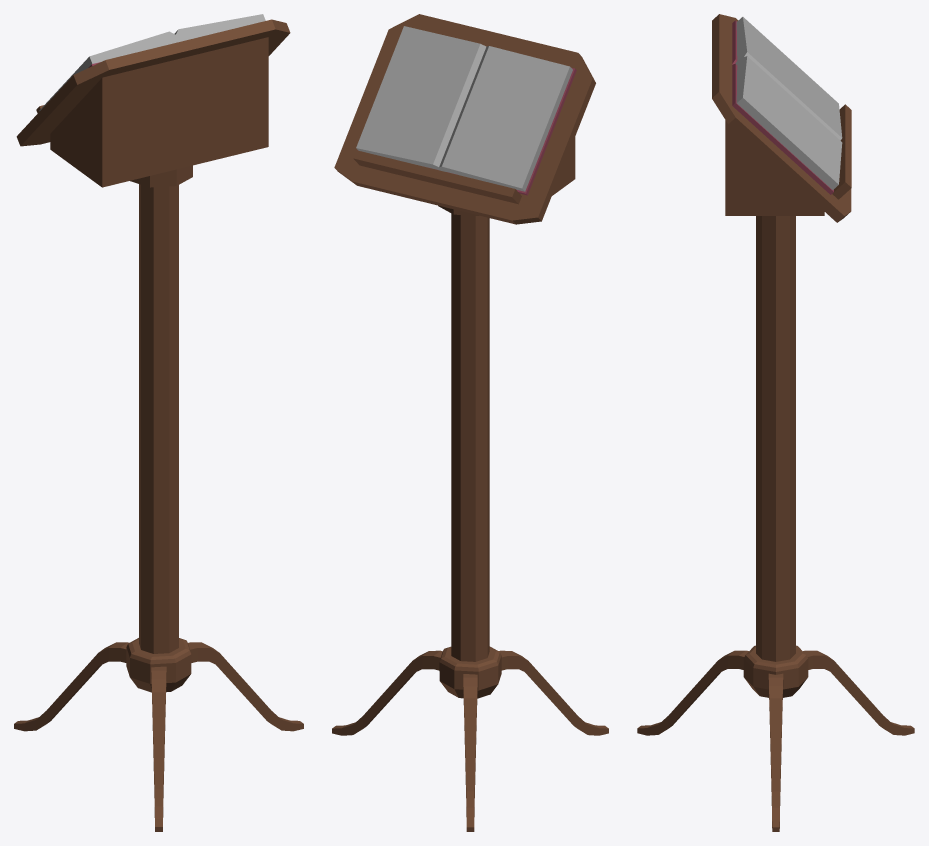
The model's file is Bookstand.fbx.
The picture shows the model from 3 angles, left to right: view 1: azimuth 30°, elevation 25°; view 2: azimuth 150°, elevation 25°; view 3: azimuth 270°, elevation 25°; orthographic projection. The views are drawn at different scales.
Parts seen in each view (by area): view 1: Bookstand; view 2: Bookstand; view 3: Bookstand.
Part boxes in pixels (box(x1,y1,x2,y2)): Bookstand: box(14, 14, 303, 831); Bookstand: box(332, 14, 608, 831); Bookstand: box(637, 14, 914, 831).
Size of the model in its own units: 58.59 by 167 by 58.93.
